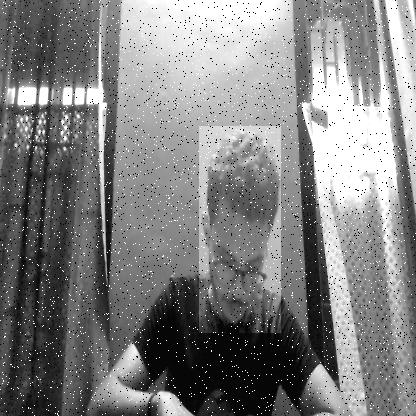Distracted: (199, 126, 281, 333)
